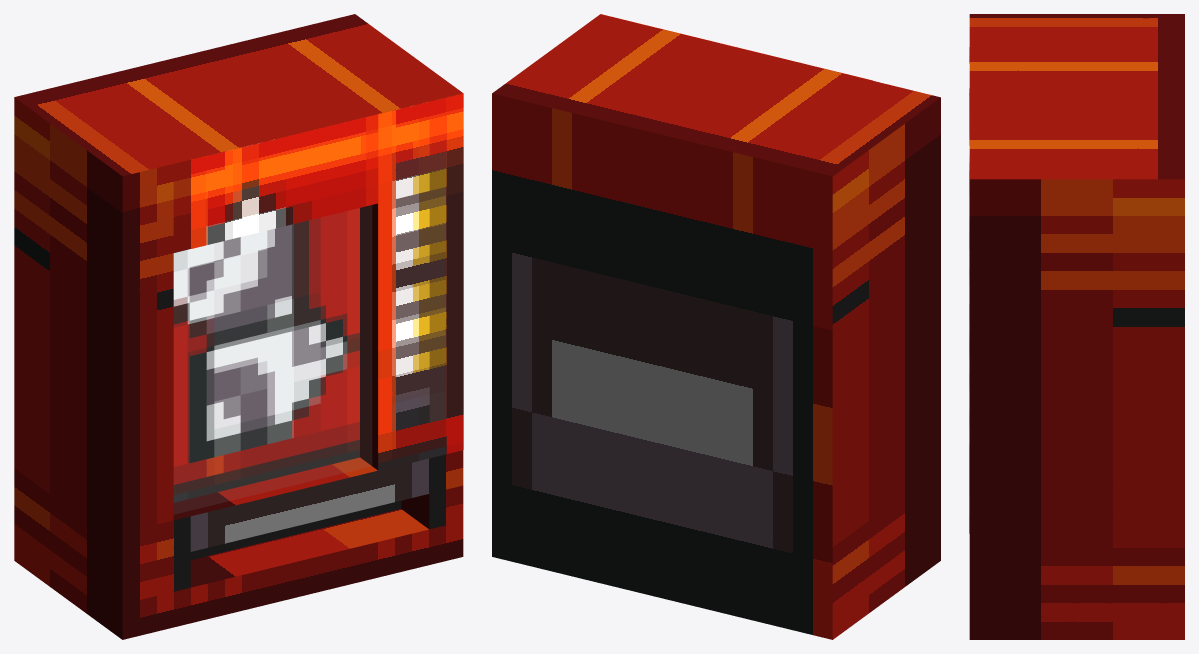
File: vending_theater.glb
3 renders of one model, left to right at view 1: azimuth 30°, elevation 25°; view 2: azimuth 150°, elevation 25°; view 3: azimuth 270°, elevation 25°, orthographic.
Visible parts, largest first — view 1: vending_theater_Cabinet, vending_theater, vending_theater_Display_Glass, vending_theater_Delivery_Flap; view 2: vending_theater_Cabinet; view 3: vending_theater_Cabinet, vending_theater.
Boxes of the visible parts, <box> form: vending_theater_Cabinet: <box>14,14,463,639</box>; vending_theater: <box>173,93,463,502</box>; vending_theater_Display_Glass: <box>174,206,371,513</box>; vending_theater_Delivery_Flap: <box>190,501,401,559</box>; vending_theater_Cabinet: <box>492,14,940,639</box>; vending_theater_Cabinet: <box>969,14,1184,639</box>; vending_theater: <box>969,47,969,533</box>.
Size of the model in its own units: 1.2 by 1.56 by 0.662.
Materials: 4 (3 with a texture image).
